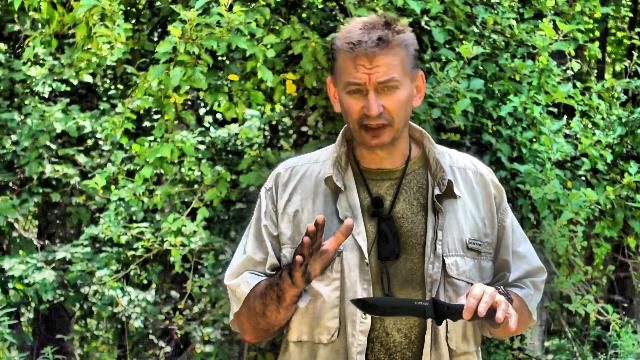knife: (348, 287, 520, 335)
